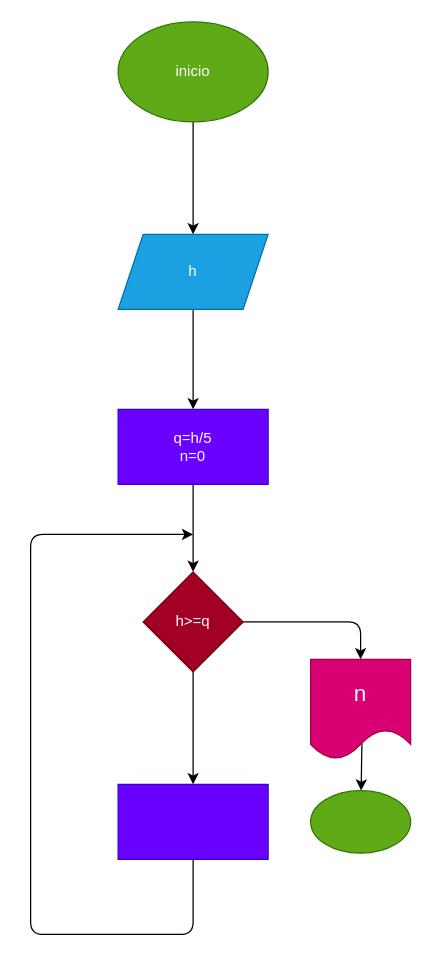
This 433x966 diagram has some shape labels left out. Here are the shapes that lost their labels. From the top down, the box of each, then its label:
(117, 783, 268, 859): h=0.9*h n=n+1
(309, 789, 411, 853): Fin
